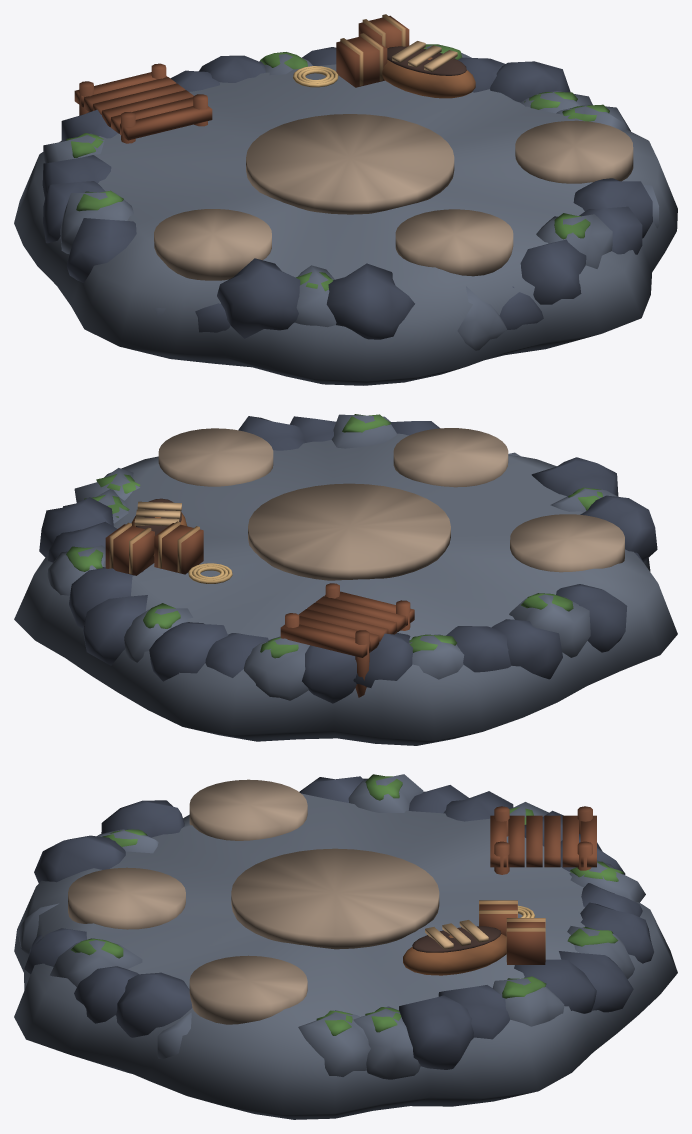
File: isla-base.glb
The picture shows the model from 3 angles, top to bottom: view 1: azimuth 30°, elevation 25°; view 2: azimuth 150°, elevation 25°; view 3: azimuth 270°, elevation 25°; orthographic projection. The views are drawn at different scales.
Visible parts, largest first — view 1: Rocks, Clearing, Details, Pad_Left, Pad_Front, Pad_Right; view 2: Rocks, Clearing, Details, Pad_Front, Pad_Left, Pad_Right; view 3: Rocks, Clearing, Details, Pad_Right, Pad_Front, Pad_Left.
Boxes of the visible parts, <box> form: Rocks: <box>14,44,677,385</box>; Clearing: <box>246,114,454,214</box>; Details: <box>74,14,475,143</box>; Pad_Left: <box>154,209,271,280</box>; Pad_Front: <box>395,209,513,276</box>; Pad_Right: <box>515,120,633,183</box>; Rocks: <box>14,414,677,745</box>; Clearing: <box>248,483,450,580</box>; Details: <box>105,498,414,697</box>; Pad_Front: <box>393,428,508,487</box>; Pad_Left: <box>510,514,624,572</box>; Pad_Right: <box>158,428,273,486</box>; Rocks: <box>14,774,677,1119</box>; Clearing: <box>231,848,439,949</box>; Details: <box>403,806,596,975</box>; Pad_Right: <box>189,955,307,1024</box>; Pad_Front: <box>68,867,185,929</box>; Pad_Left: <box>189,779,307,840</box>.
Size of the model in its own units: 1.94 by 0.4725 by 1.91.
